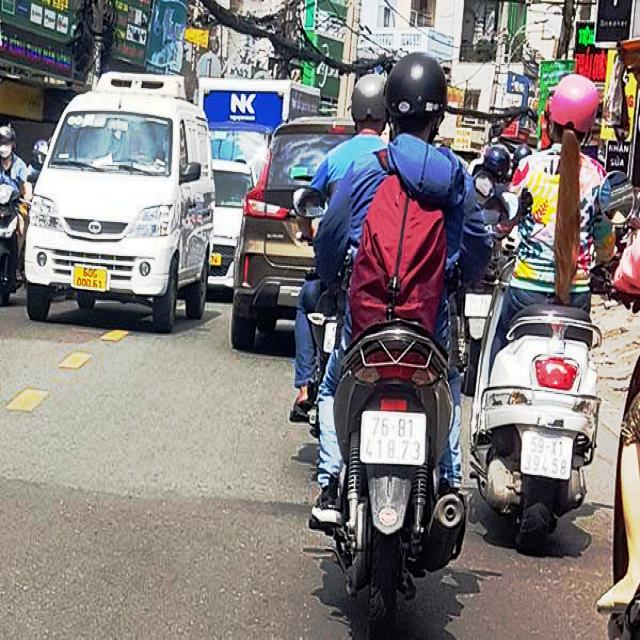license_plate: (360, 411, 428, 468), (519, 429, 577, 483), (73, 266, 108, 293)
